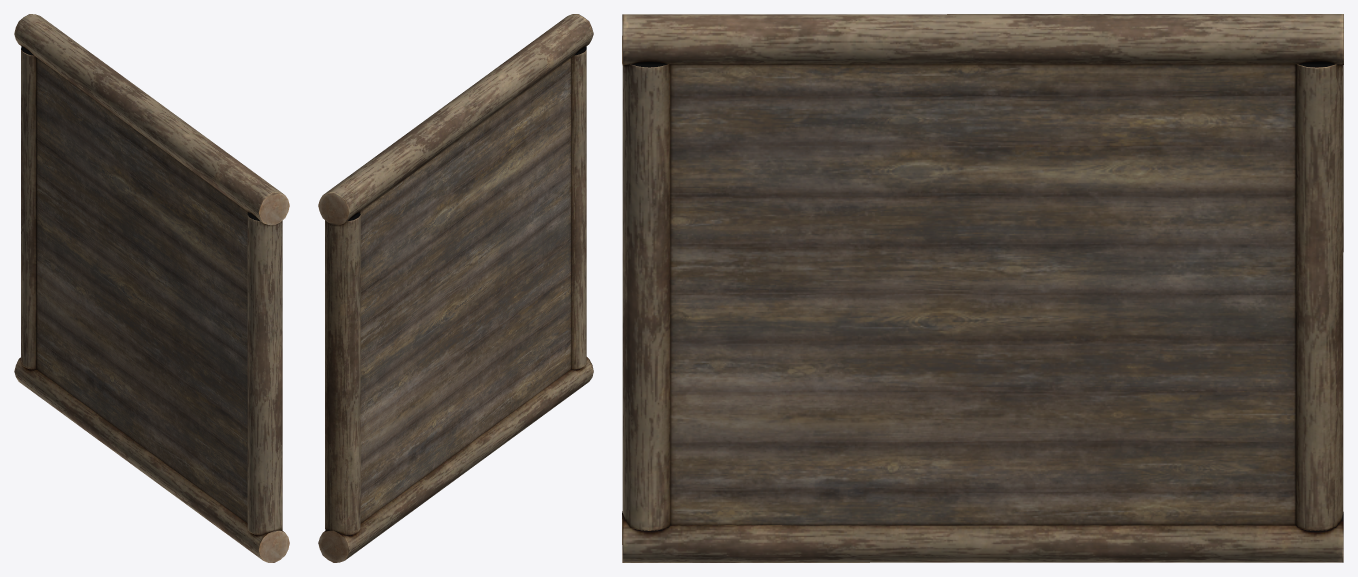
Rendered from WoodWall.fbx.
3 views of the same model, side by side, from view 1: azimuth 30°, elevation 25°; view 2: azimuth 150°, elevation 25°; view 3: azimuth 270°, elevation 25° (orthographic). The views are drawn at different scales.
Visible parts, largest first — view 1: SM_Wall_Wood.mo; view 2: SM_Wall_Wood.mo; view 3: SM_Wall_Wood.mo.
Part boxes in pixels (left/top/right/bottom): SM_Wall_Wood.mo: left=14, top=14, right=289, bottom=562; SM_Wall_Wood.mo: left=318, top=14, right=593, bottom=562; SM_Wall_Wood.mo: left=622, top=14, right=1343, bottom=562.
Bounding box in the file's own units: 29.18 × 334 × 400.
